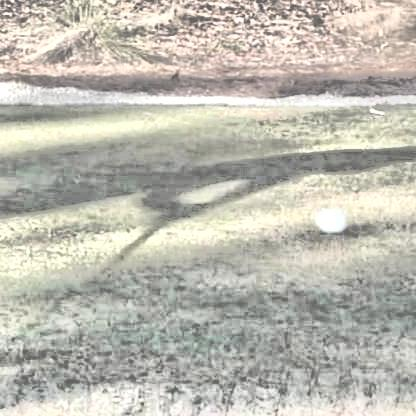golfball: (314, 207, 343, 231)
